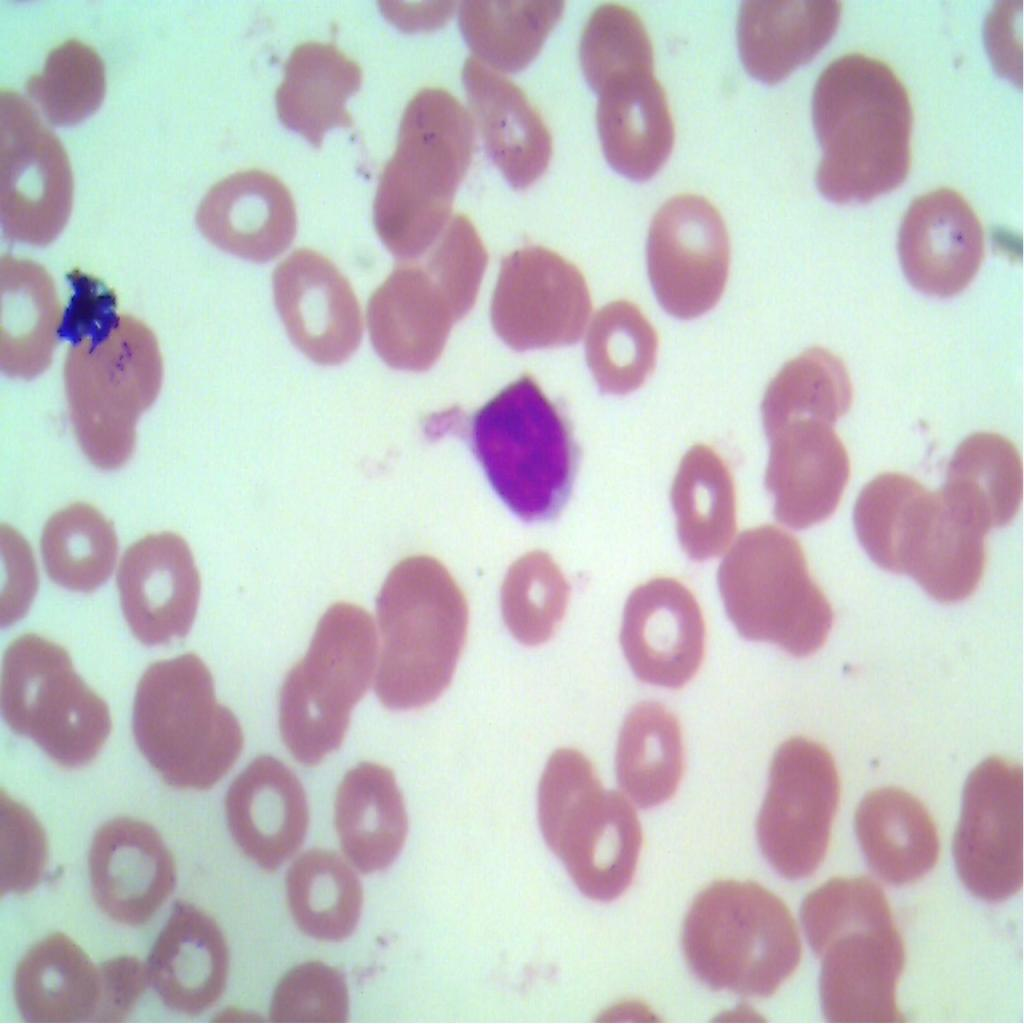Eritrosit: (479, 230, 595, 358), (452, 50, 558, 186), (261, 37, 381, 157), (184, 145, 302, 266), (266, 231, 366, 368), (635, 180, 734, 318), (886, 184, 993, 302), (358, 264, 452, 390), (109, 532, 204, 655), (810, 44, 916, 154), (618, 571, 711, 694), (811, 108, 918, 212), (728, 0, 837, 101), (222, 749, 308, 877), (766, 421, 855, 541), (796, 870, 908, 964), (0, 258, 74, 399), (490, 542, 574, 664), (130, 648, 216, 767), (662, 442, 742, 568), (23, 29, 118, 135), (86, 814, 175, 927), (903, 479, 986, 600), (373, 139, 456, 260), (326, 757, 400, 892), (66, 307, 162, 411), (524, 742, 603, 868), (373, 551, 466, 658), (148, 900, 233, 1016), (570, 4, 662, 109), (721, 525, 804, 641), (598, 62, 676, 184), (0, 127, 76, 251), (853, 782, 943, 885), (753, 343, 844, 444), (726, 886, 808, 998), (372, 605, 458, 711), (61, 354, 138, 471), (614, 695, 691, 812), (406, 210, 486, 322), (10, 928, 101, 1023), (35, 500, 128, 592), (858, 464, 933, 577), (582, 298, 663, 396), (570, 797, 646, 901), (35, 680, 114, 778), (682, 865, 748, 981), (750, 782, 826, 882), (946, 432, 1023, 530), (761, 577, 843, 669), (283, 848, 362, 941), (946, 810, 1023, 904), (276, 664, 344, 770), (821, 931, 899, 1023), (0, 630, 64, 742), (766, 737, 841, 832), (396, 85, 470, 178), (956, 748, 1023, 848), (303, 607, 371, 702), (174, 705, 246, 794)
Limfoblast: (429, 372, 589, 525)
